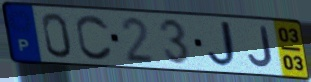0: (40, 11, 75, 60)
2: (119, 15, 156, 65)
3: (158, 17, 193, 67)
C: (74, 12, 115, 62)
J: (206, 20, 243, 70), (246, 25, 275, 69)
